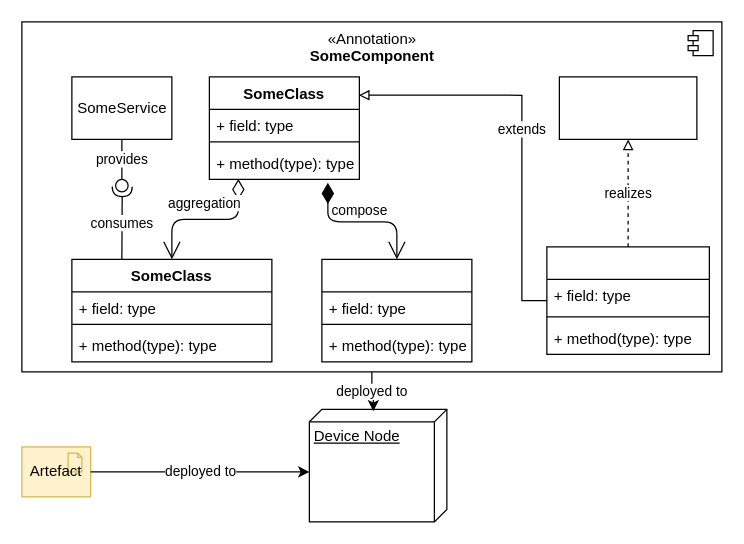
Image size: 744x544. Some labels were removed from this diagram. The box of each missing label's shape, as (x1, y1, x2, y2) in pixels:
SomeChildClass: (321, 258, 472, 362)
SomeSubClass: (546, 246, 709, 354)
«interface» ISomeInterface: (558, 76, 697, 139)
